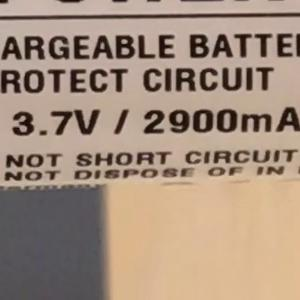keyword: (2, 99, 110, 146)
